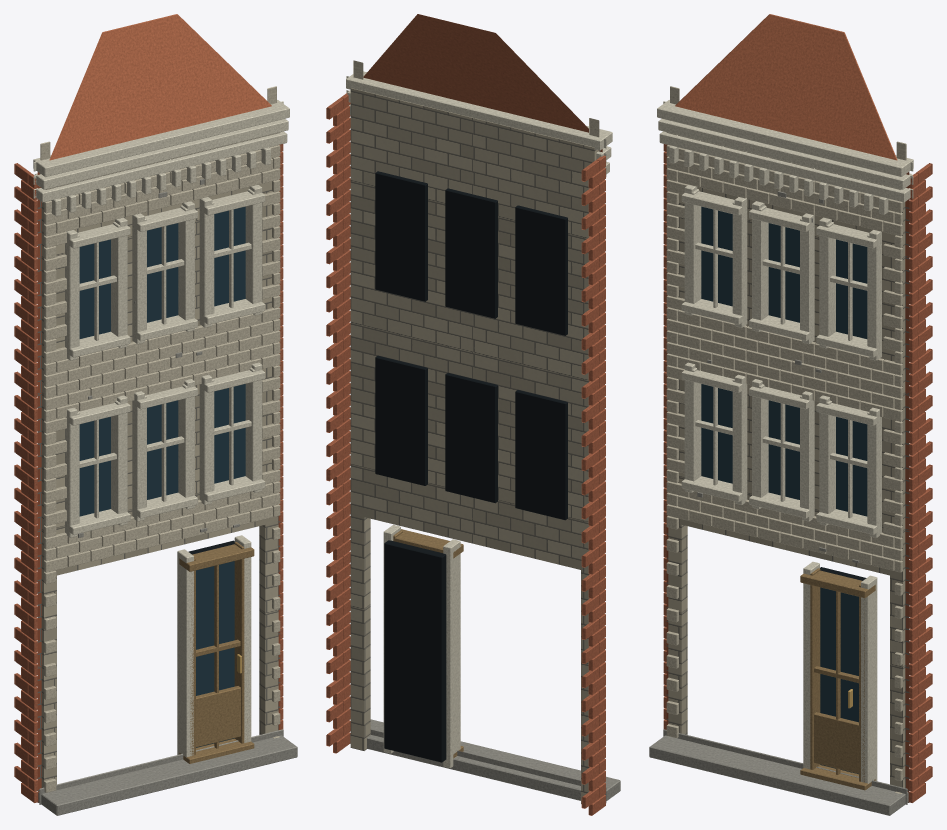
The model's file is VICT33_lod0.glb.
The picture shows the model from 3 angles, left to right: view 1: azimuth 30°, elevation 25°; view 2: azimuth 150°, elevation 25°; view 3: azimuth 330°, elevation 25°; orthographic projection. The views are drawn at different scales.
Visible parts, largest first — view 1: VICT33_FRONT_LOD0; view 2: VICT33_FRONT_LOD0; view 3: VICT33_FRONT_LOD0.
Part boxes in pixels (x1=…): VICT33_FRONT_LOD0: x1=14, y1=14, x2=297, y2=815; VICT33_FRONT_LOD0: x1=326, y1=14, x2=620, y2=815; VICT33_FRONT_LOD0: x1=649, y1=14, x2=932, y2=815.
Size of the model in its own units: 3.84 by 10.8 by 1.02.
Materials: 16 (13 with a texture image).
